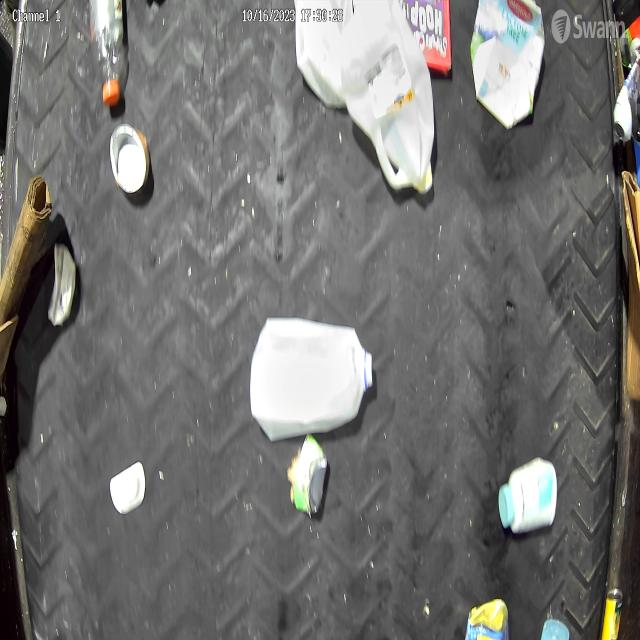can: (281, 436, 332, 531), (111, 126, 150, 201)
milk_jug: (293, 6, 436, 204), (247, 310, 380, 442)
plastic_bottle: (88, 0, 132, 117)
